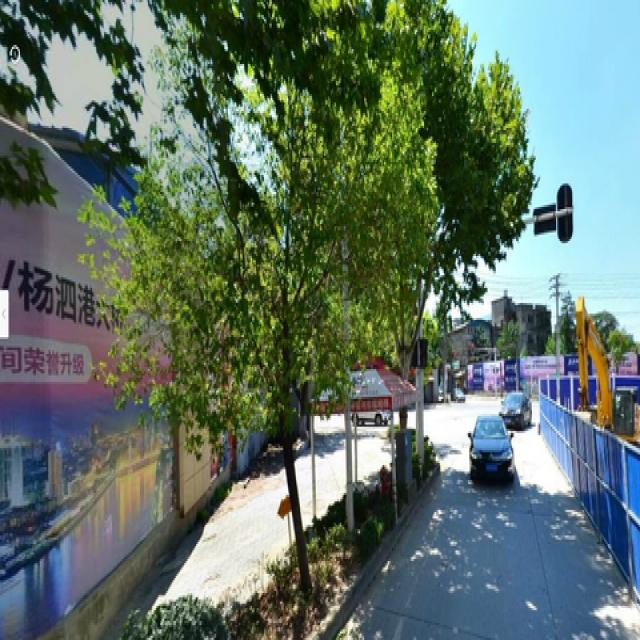cinn: (172, 126, 396, 619)
